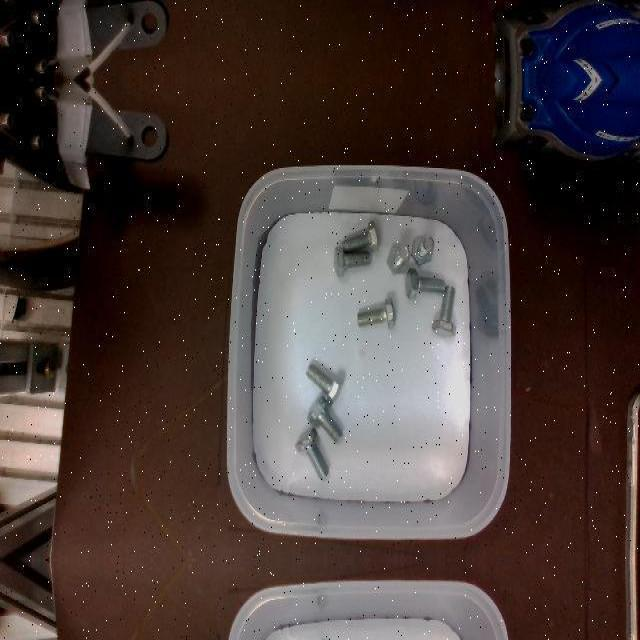screw: (294, 428, 328, 480), (306, 395, 342, 443), (305, 363, 343, 405), (431, 285, 456, 337), (405, 267, 445, 299), (342, 219, 379, 253), (357, 296, 394, 328), (334, 246, 371, 278), (386, 243, 410, 275), (410, 235, 434, 265)
